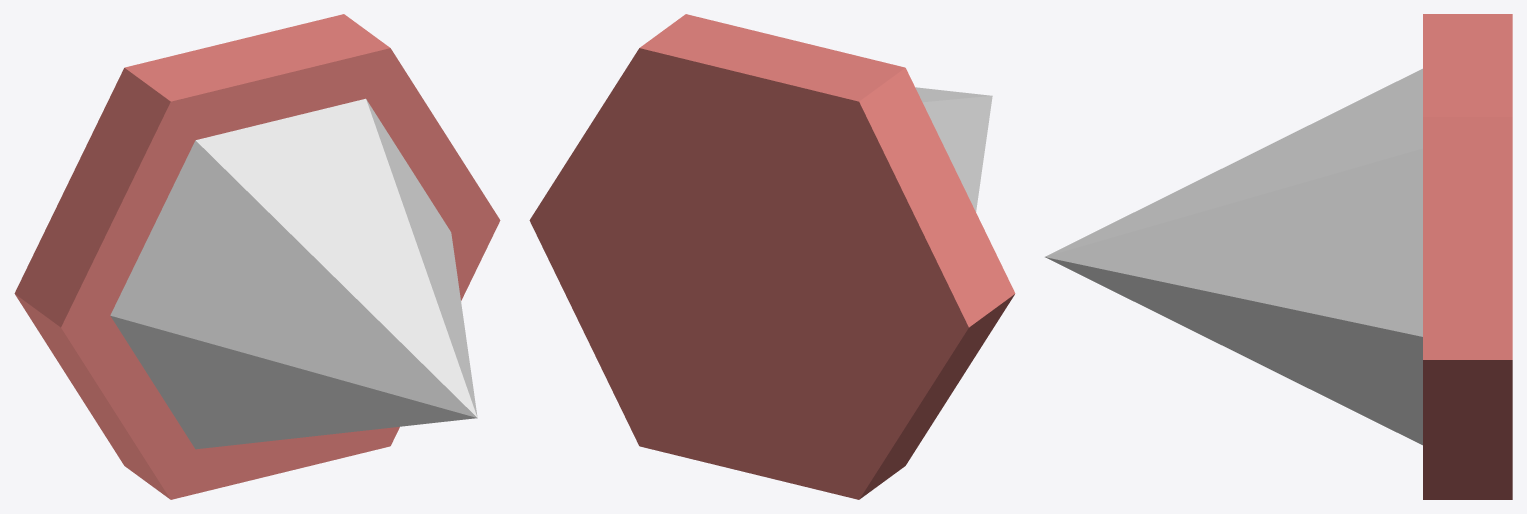
The model's file is outer_spike.glb.
The picture shows the model from 3 angles, left to right: view 1: azimuth 30°, elevation 25°; view 2: azimuth 150°, elevation 25°; view 3: azimuth 270°, elevation 25°; orthographic projection. The views are drawn at different scales.
Parts seen in each view (by area): view 1: Cone, Cylinder; view 2: Cylinder, Cone; view 3: Cone, Cylinder.
Boxes of the visible parts, x1,y1,x2,y2 form: Cone: (110, 98, 477, 449); Cylinder: (14, 14, 500, 499); Cylinder: (529, 14, 1015, 499); Cone: (915, 87, 992, 211); Cone: (1045, 68, 1422, 445); Cylinder: (1423, 14, 1512, 499).
Size of the model in its own units: 0.5 by 0.433 by 0.4797.
